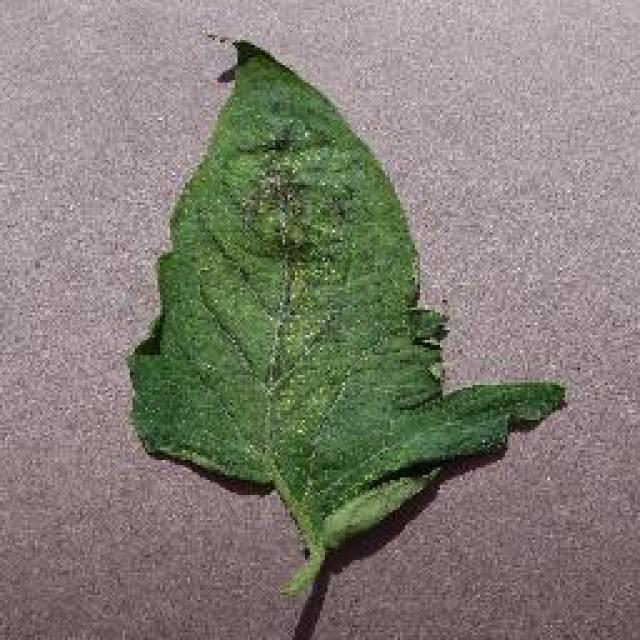Tomato___Spider_mites Two-spotted_spider_mite: (130, 40, 562, 592)
